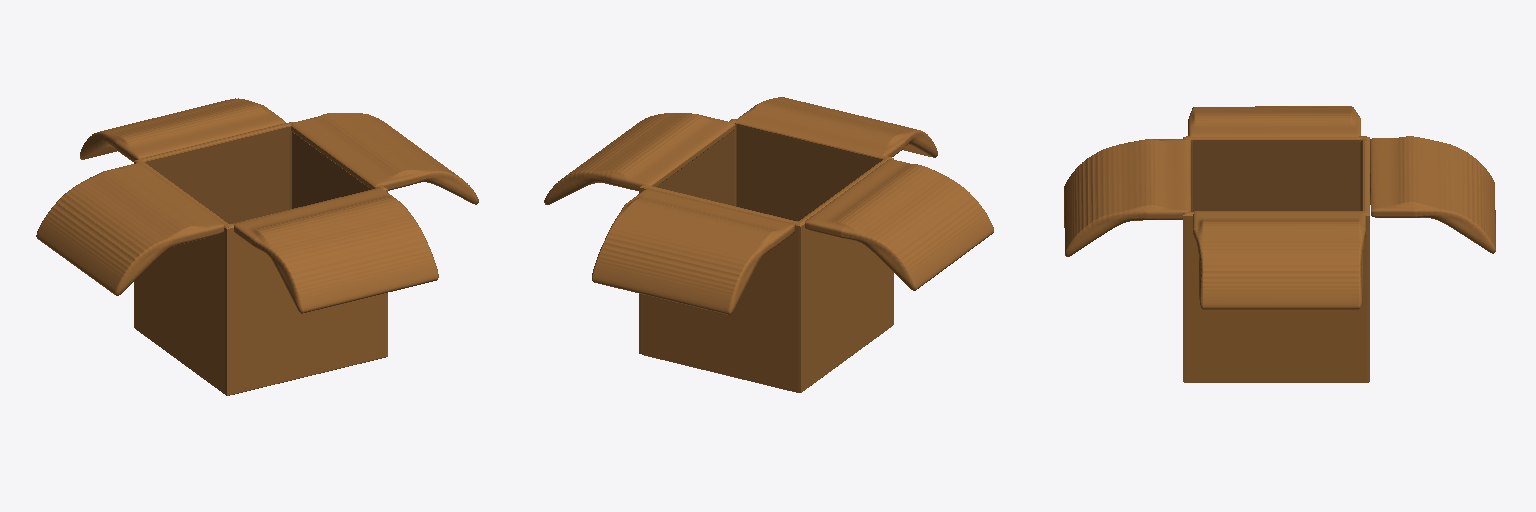
3 views of the same model, side by side, from view 1: azimuth 30°, elevation 25°; view 2: azimuth 150°, elevation 25°; view 3: azimuth 270°, elevation 25° (orthographic).
Parts seen in each view (by area): view 1: 23_02_03_06_01_50_711_1, 23_02_03_06_01_50_711_0; view 2: 23_02_03_06_01_50_711_1, 23_02_03_06_01_50_711_0; view 3: 23_02_03_06_01_50_711_1, 23_02_03_06_01_50_711_0.
Part boxes in pixels (x1,y1,x2,y2): 23_02_03_06_01_50_711_1: (36,98,478,313); 23_02_03_06_01_50_711_0: (134,122,387,395); 23_02_03_06_01_50_711_1: (544,97,993,314); 23_02_03_06_01_50_711_0: (639,119,893,392); 23_02_03_06_01_50_711_1: (1064,106,1495,309); 23_02_03_06_01_50_711_0: (1183,136,1369,382).
Size of the model in its own units: 13.24 by 5.97 by 13.45.
2 materials, 2 textured.